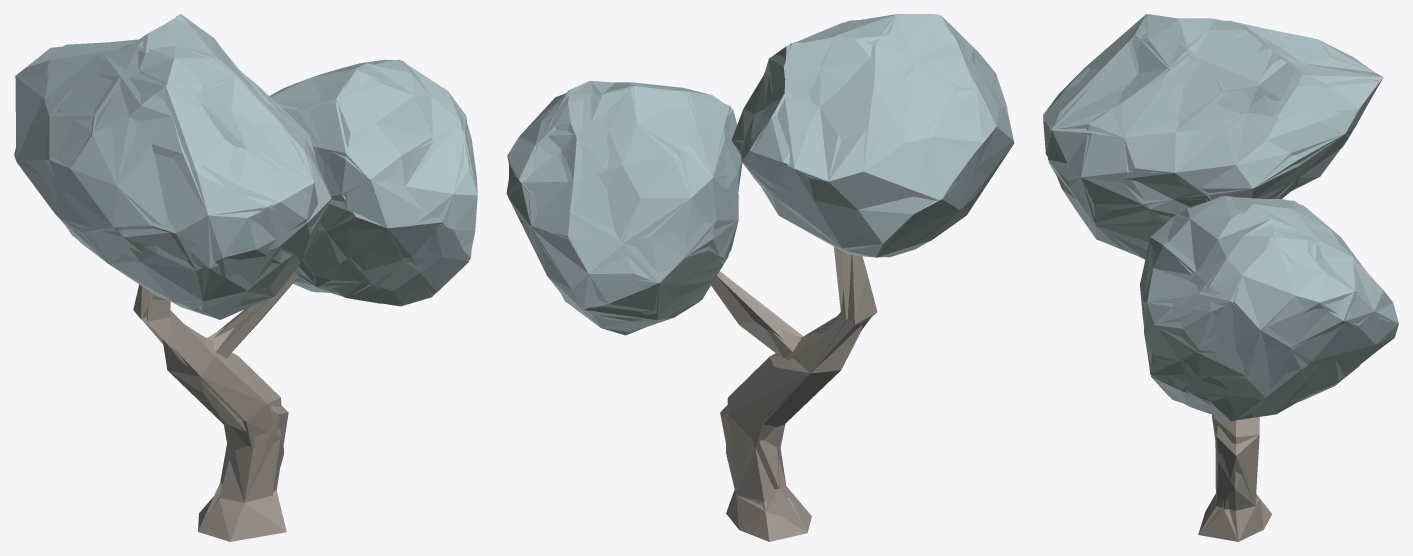
The model's file is Tree_01.fbx.
The picture shows the model from 3 angles, left to right: view 1: azimuth 30°, elevation 25°; view 2: azimuth 150°, elevation 25°; view 3: azimuth 270°, elevation 25°; orthographic projection. The views are drawn at different scales.
Visible parts, largest first — view 1: Tree_01_0 L, Tree_01_1 L; view 2: Tree_01_0 L, Tree_01_1 L; view 3: Tree_01_0 L, Tree_01_1 L.
Part boxes in pixels (<box>): Tree_01_0 L: <box>14,14,477,541</box>; Tree_01_1 L: <box>14,14,476,531</box>; Tree_01_0 L: <box>506,14,1013,541</box>; Tree_01_1 L: <box>509,14,1014,541</box>; Tree_01_0 L: <box>1043,14,1398,541</box>; Tree_01_1 L: <box>1043,14,1398,541</box>.
Bounding box in the file's own units: 1504 × 1701 × 1187.
